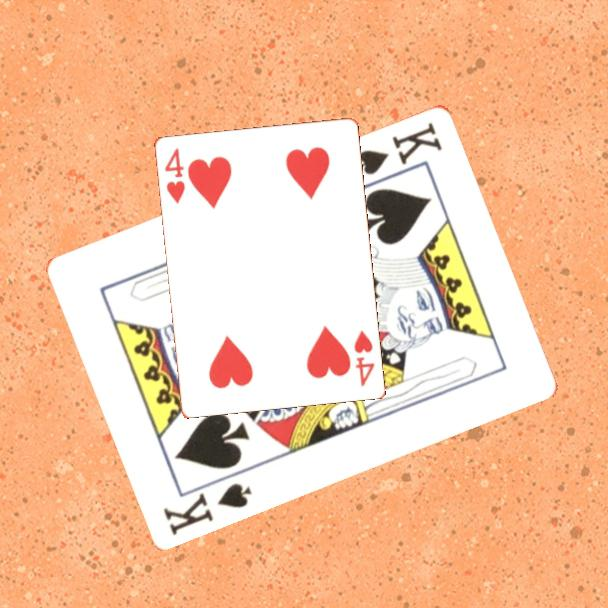h04: (350, 326, 377, 389), (161, 144, 187, 206)
s13: (351, 118, 446, 178), (160, 478, 255, 538)
